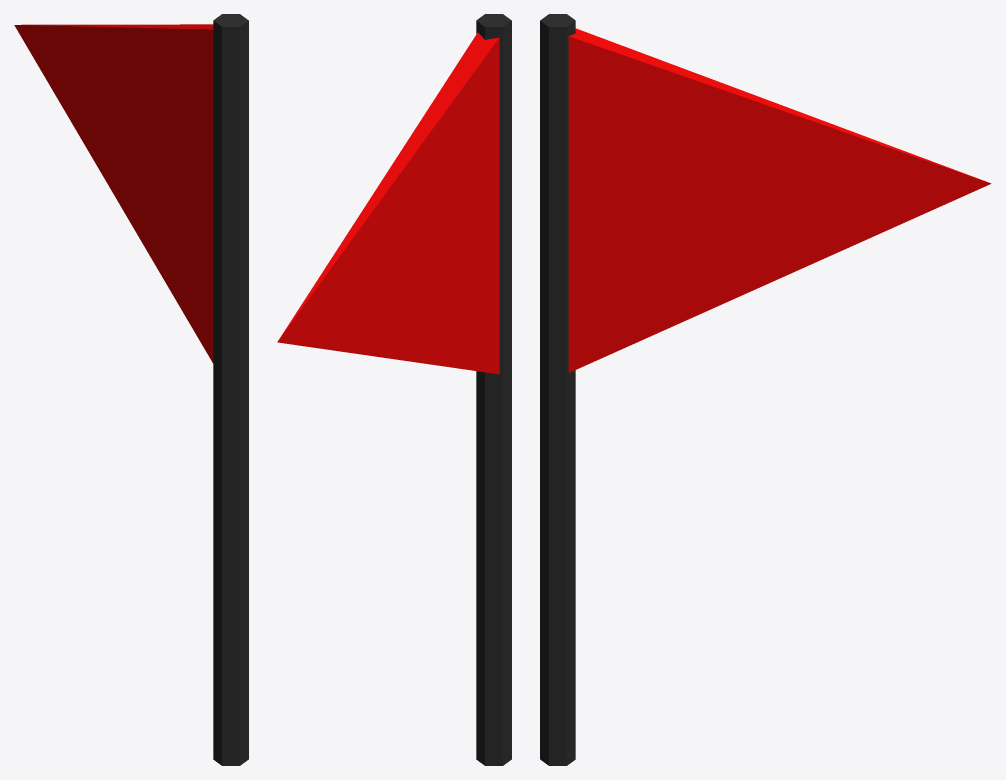
The model's file is flag.obj.
3 views of the same model, side by side, from view 1: azimuth 30°, elevation 25°; view 2: azimuth 150°, elevation 25°; view 3: azimuth 270°, elevation 25° (orthographic).
Visible parts, largest first — view 1: Куб, Cube; view 2: Куб, Cube; view 3: Куб, Cube.
Boxes of the visible parts, left/top/right/bottom form: Куб: left=14, top=24, right=213, bottom=363; Cube: left=213, top=14, right=248, bottom=765; Куб: left=277, top=32, right=499, bottom=374; Cube: left=476, top=14, right=511, bottom=765; Куб: left=568, top=28, right=991, bottom=372; Cube: left=540, top=14, right=575, bottom=765.
Bounding box in the file's own units: 0.2966 × 7.83 × 4.34.
